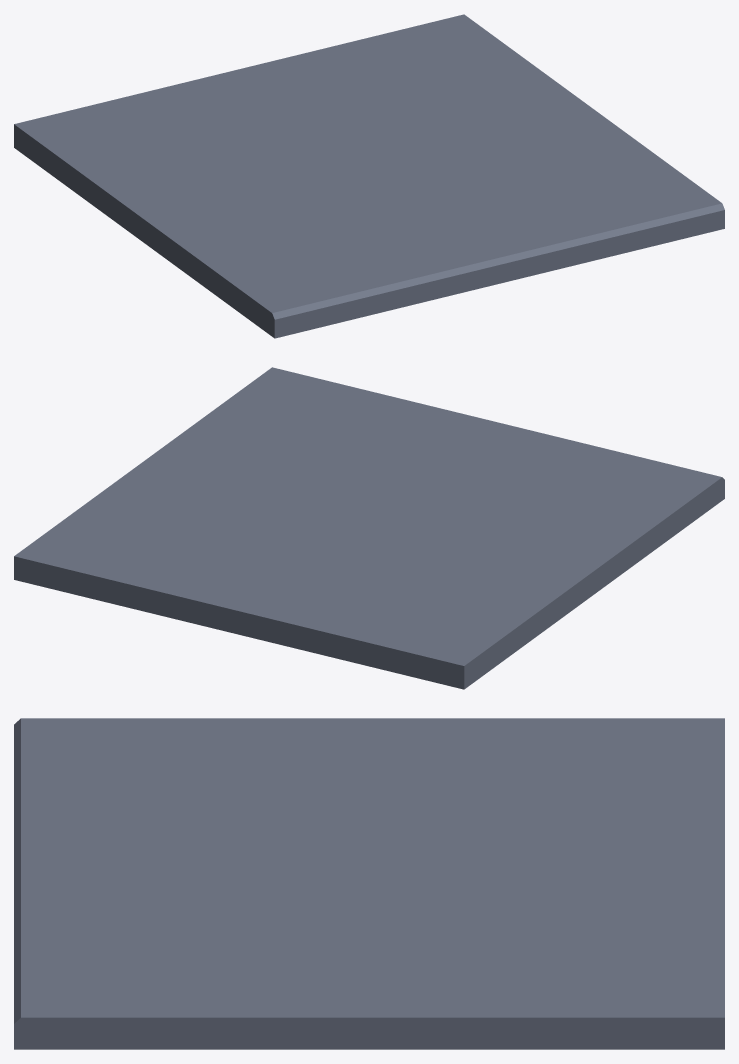
Rendered from env_block_sidewalk_straight_3m.glb.
The picture shows the model from 3 angles, top to bottom: view 1: azimuth 30°, elevation 25°; view 2: azimuth 150°, elevation 25°; view 3: azimuth 270°, elevation 25°; orthographic projection. The views are drawn at different scales.
Parts seen in each view (by area): view 1: geometry_0; view 2: geometry_0; view 3: geometry_0.
Boxes of the visible parts, x1,y1,x2,y2 form: geometry_0: [14, 14, 724, 338]; geometry_0: [14, 367, 724, 689]; geometry_0: [14, 718, 724, 1049].
Size of the model in its own units: 3 by 0.15 by 3.01.
